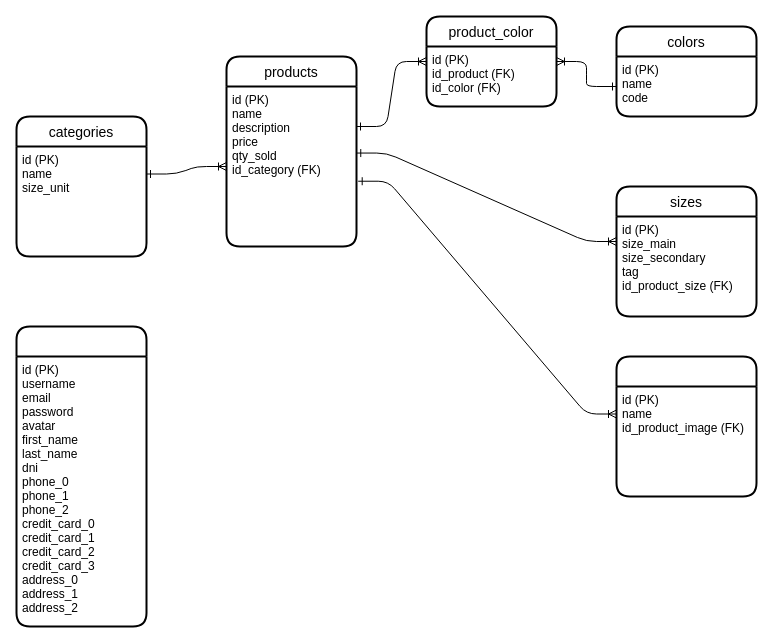
Image size: 773x643. Some labels were removed from this diagram. The shapes that lost their labels are listed below. From the top down, each one's box as (x1, y1, x2, y2) in pixels, then its label:
(615, 355, 757, 497): images
(15, 325, 147, 627): users
